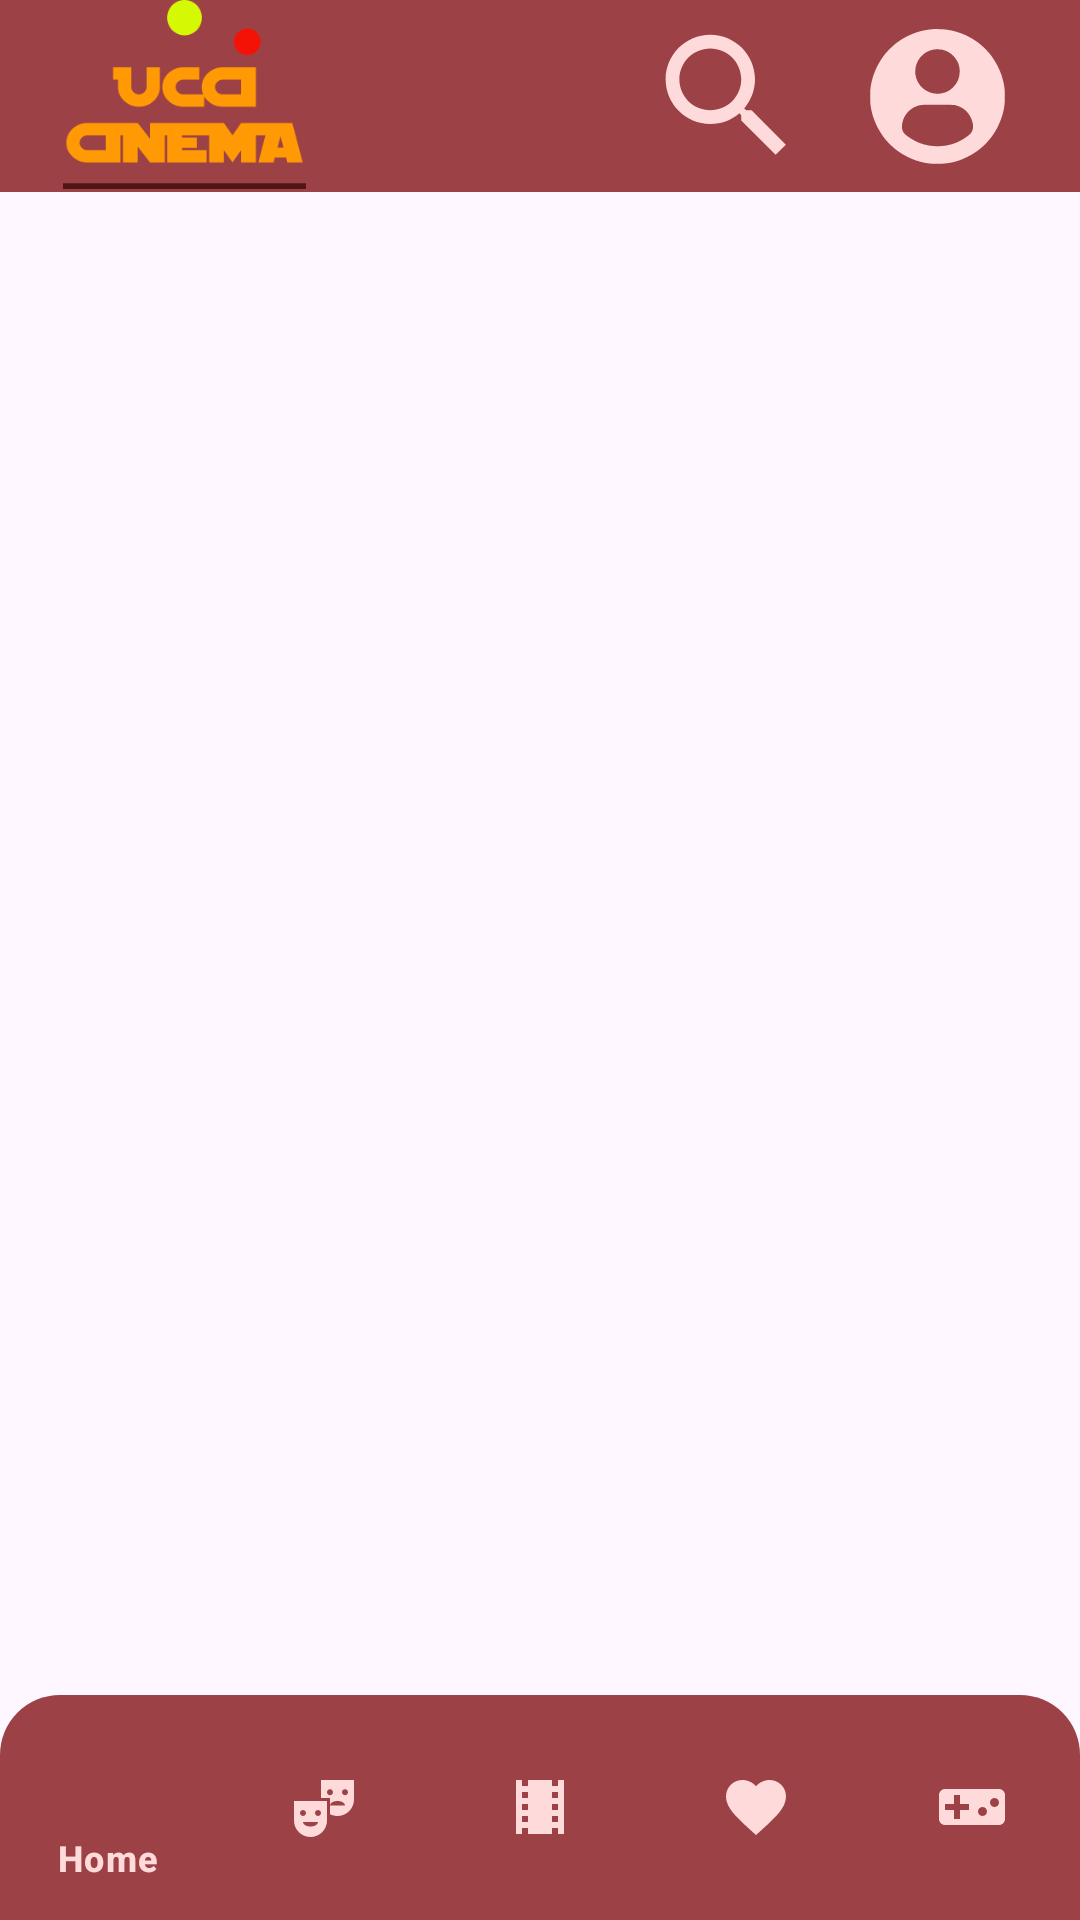

Locate icon controls on the screen. Image size 1080px×1920px, boxes as (x1, y1, x2, y2).
icona cerca: (665, 34, 786, 155)
icona login: (870, 29, 1005, 164)
